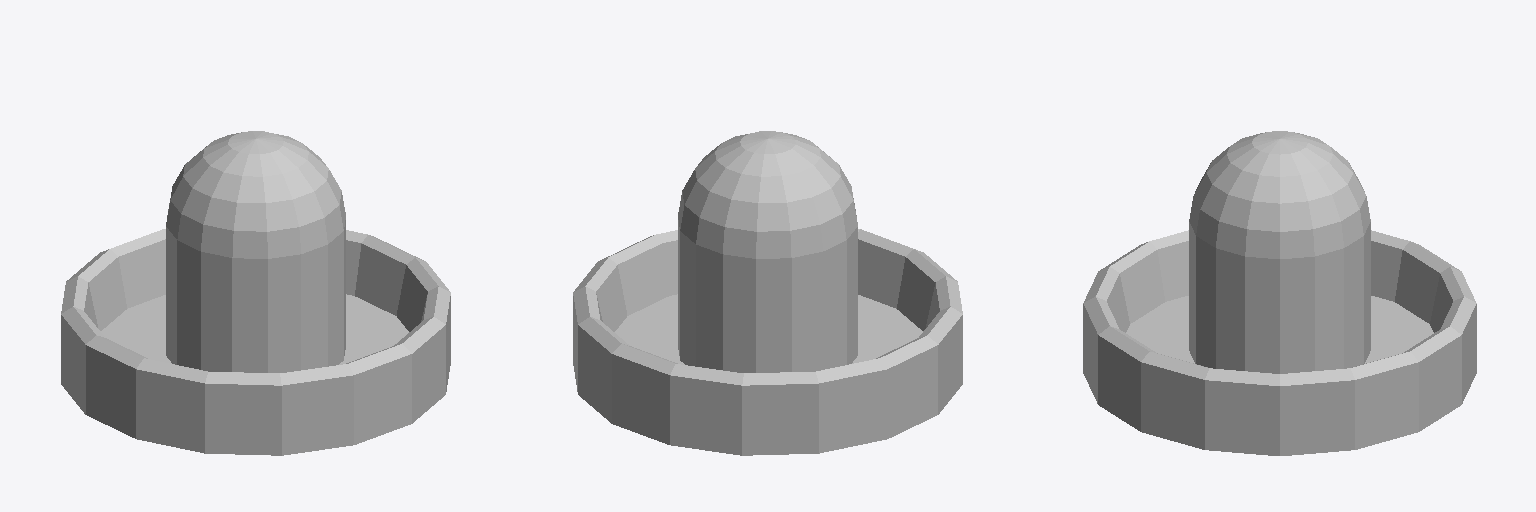
File: strikerlowres.obj
The picture shows the model from 3 angles: view 1: azimuth 30°, elevation 25°; view 2: azimuth 150°, elevation 25°; view 3: azimuth 270°, elevation 25°; orthographic projection.
Parts seen in each view (by area): view 1: Sphere.001; view 2: Sphere.001; view 3: Sphere.001.
Boxes of the visible parts, <box> form: Sphere.001: <box>61,131,450,455</box>; Sphere.001: <box>573,131,962,455</box>; Sphere.001: <box>1083,131,1476,455</box>.
Size of the model in its own units: 4.33 by 2.85 by 4.33.